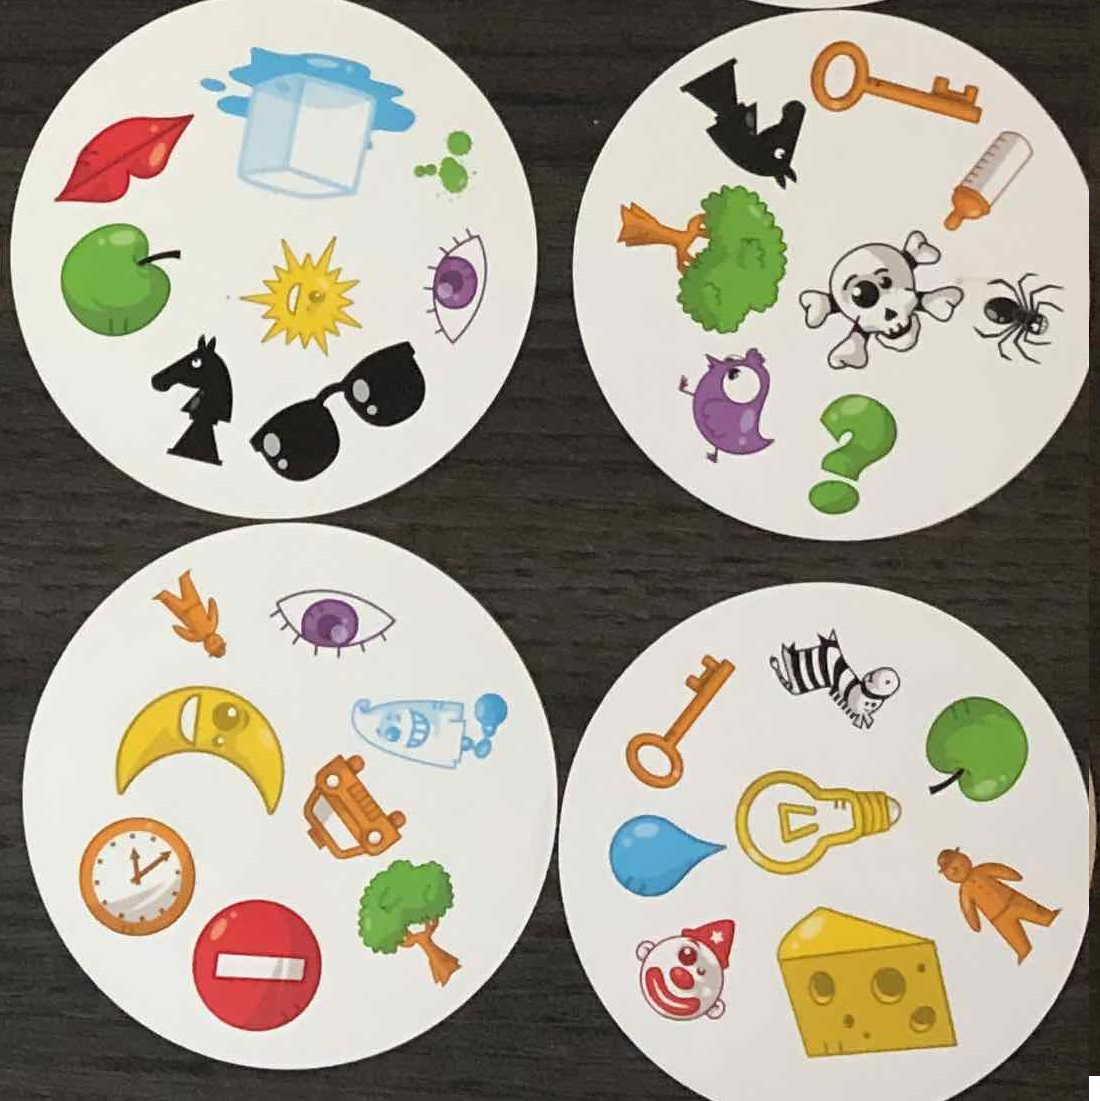ampoule: (733, 764, 905, 879)
araignee: (972, 258, 1068, 368)
arbre: (605, 181, 795, 336), (354, 856, 473, 990)
biberon: (935, 118, 1045, 239)
bonhomme: (929, 836, 1062, 966), (144, 563, 242, 666)
bouche: (45, 100, 201, 213)
cheval: (679, 51, 808, 186), (145, 332, 244, 471)
cle: (801, 38, 989, 137), (617, 644, 737, 793)
clown: (629, 910, 745, 1035)
fantome: (348, 681, 509, 771)
fromage: (775, 903, 963, 1061)
glacon: (192, 36, 424, 201)
goutte: (609, 802, 729, 899)
horloge: (68, 814, 199, 942)
lune: (107, 683, 285, 821)
lunette: (246, 336, 430, 484)
oeuil: (264, 581, 399, 661), (419, 220, 492, 353)
oiseau: (669, 345, 782, 469)
point_interrogation: (803, 389, 898, 523)
pomme: (52, 217, 193, 337), (910, 685, 1037, 814)
sens_interdit: (181, 889, 326, 1039)
soleil: (235, 232, 373, 362)
tache: (408, 120, 485, 203)
tete_mort: (790, 227, 966, 372)
voiture: (295, 745, 417, 868)
zebre: (762, 621, 904, 731)
